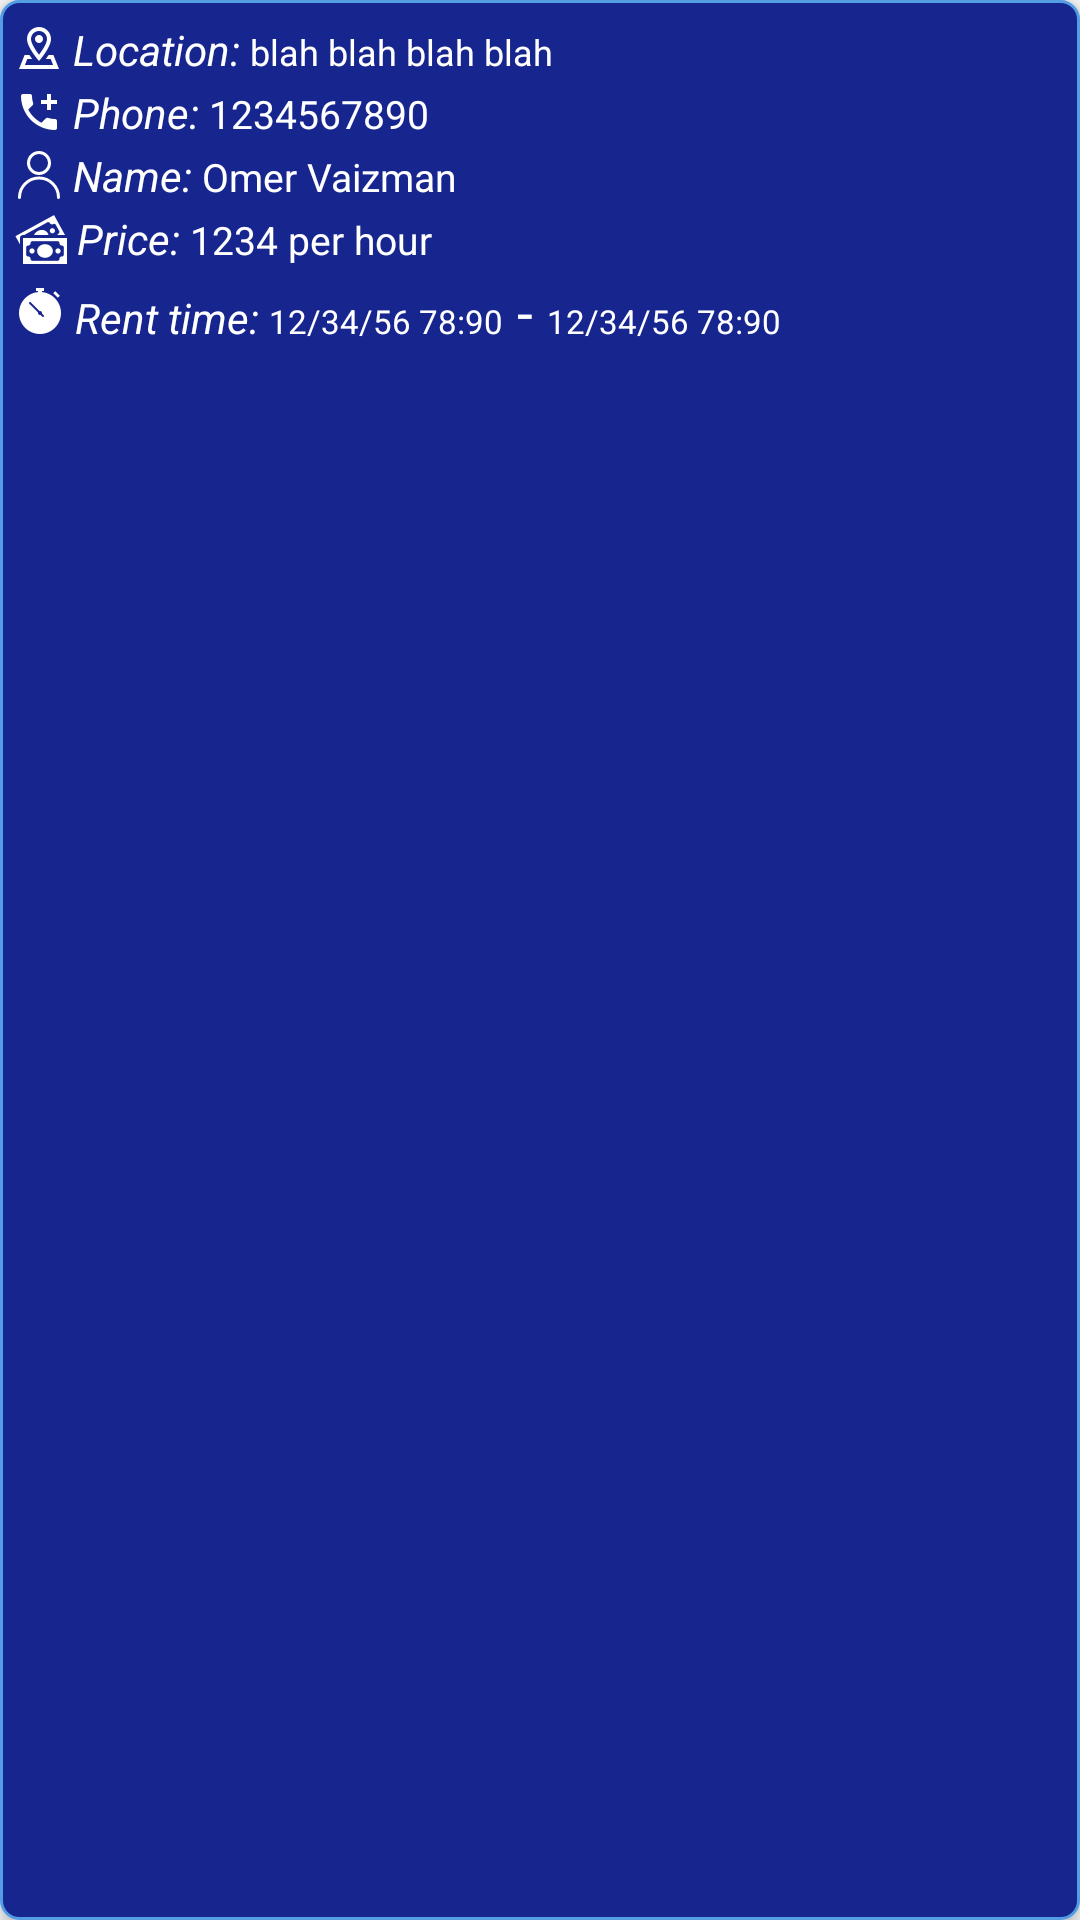

Where icons sit on this 1080x1920 app screen, as (x1, y1, x2, y2):
address: (19, 27, 59, 69)
money: (15, 215, 67, 264)
user: (18, 151, 60, 199)
